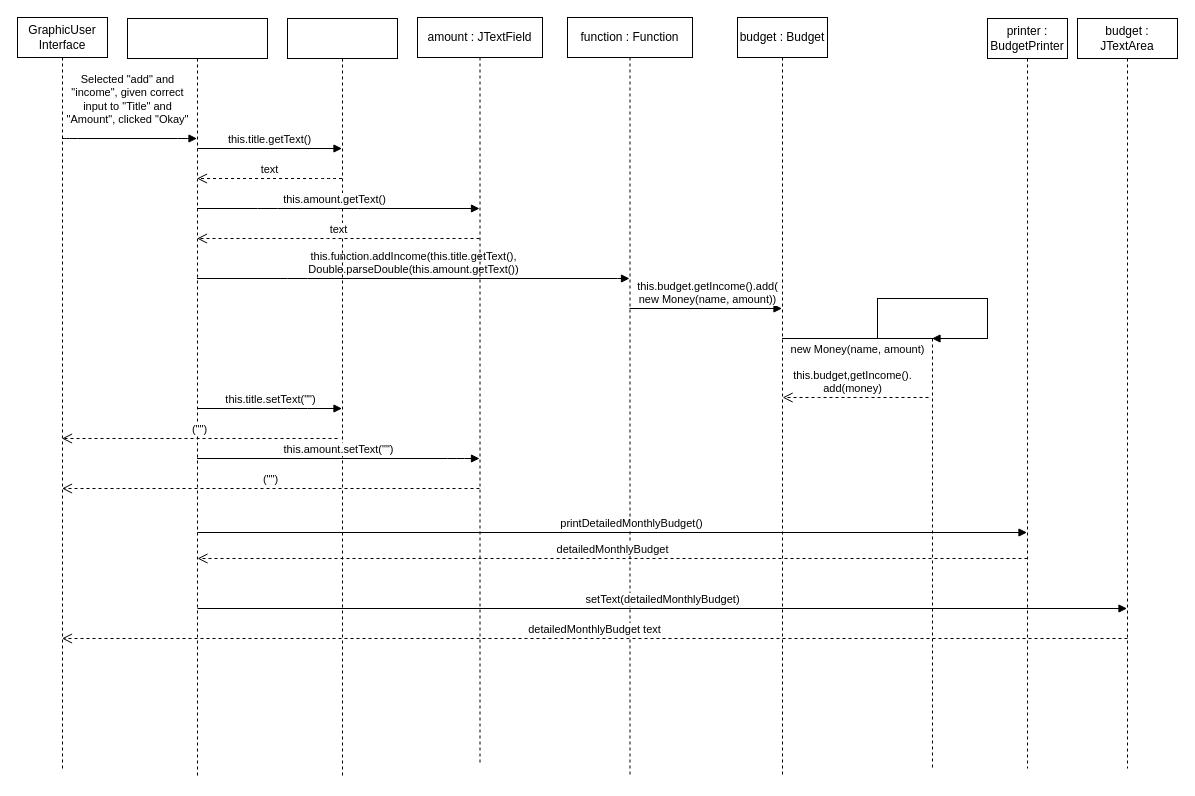
Image size: 1195x796. Some labels were removed from this diagram. Here are the shapes that lost their labels. From the top down, the box of each, then its label:
(126, 18, 268, 778): ActionChooserListener
(286, 18, 398, 778): title : JTextField
(876, 298, 988, 768): money: Money
